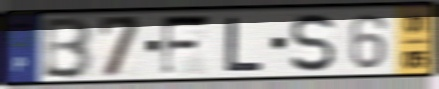6: (348, 12, 389, 72)
7: (97, 14, 144, 80)
B: (40, 15, 95, 81)
F: (159, 12, 215, 79)
L: (223, 15, 266, 74)
S: (288, 11, 338, 74)
